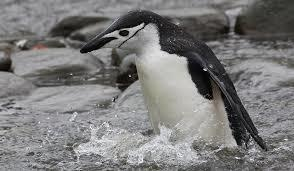chinstrap: (76, 4, 272, 166)
